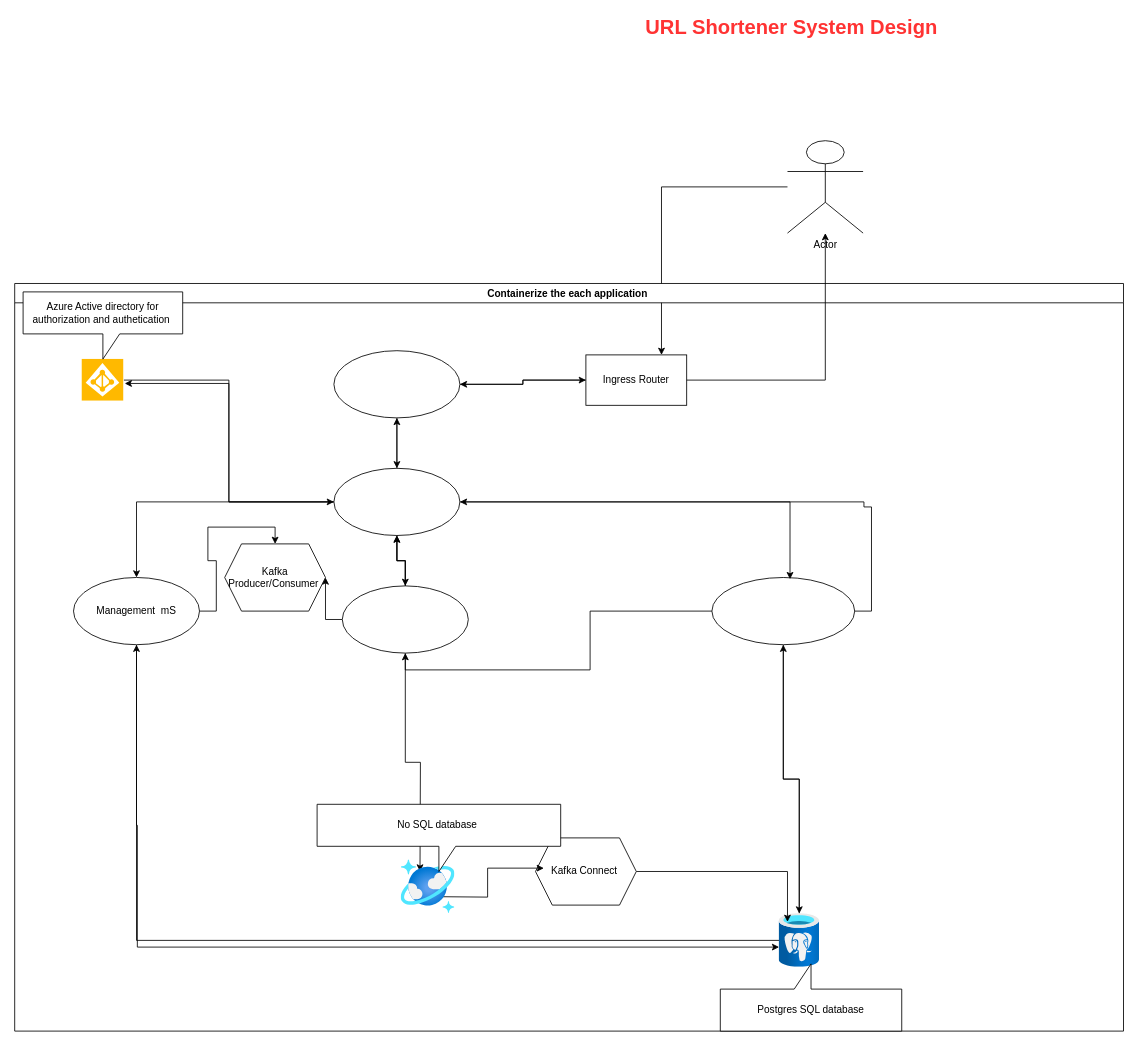
The diagram is 1138 pixels wide and 1046 high, and some of its shapes have lost their labels. Here are the shapes that lost their labels. From the top down, the centre of each, then its label:
(x=396, y=384): Front end mS
(x=396, y=501): API Gateway
(x=404, y=619): URL Shortner operation Service mS
(x=783, y=611): Redirect Service & Anaytics mS
